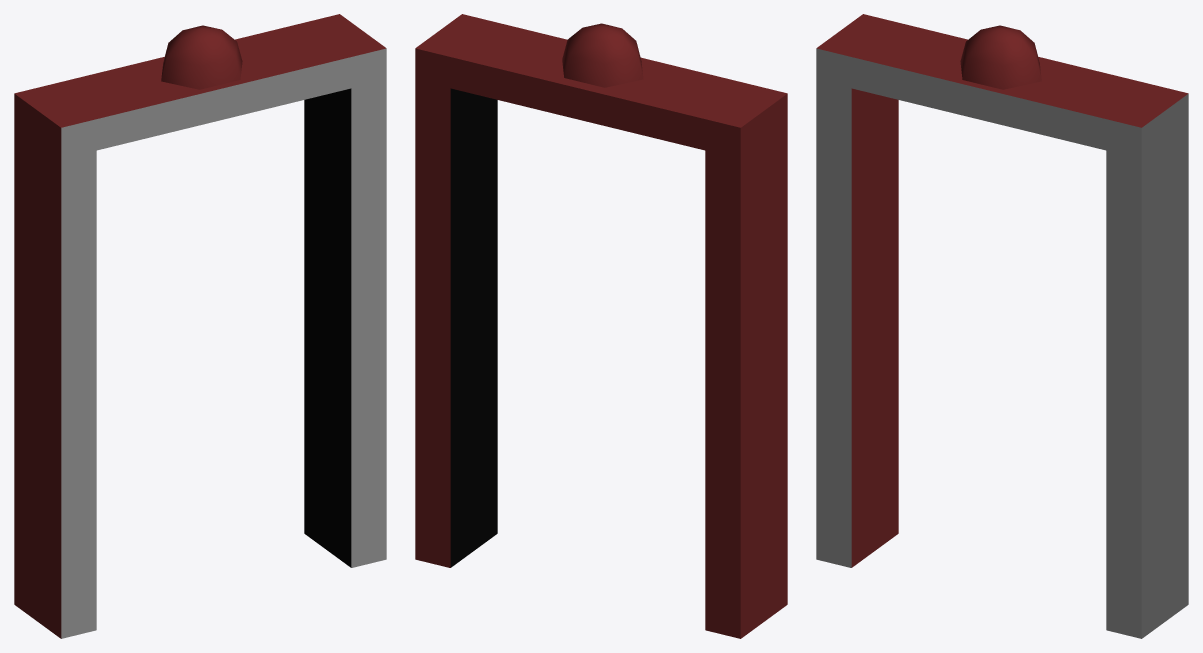
Rendered from SM_Hub_Doorway_01.fbx.
The picture shows the model from 3 angles, left to right: view 1: azimuth 30°, elevation 25°; view 2: azimuth 150°, elevation 25°; view 3: azimuth 330°, elevation 25°; orthographic projection.
Parts seen in each view (by area): view 1: SM_HubDoorway_01; view 2: SM_HubDoorway_01; view 3: SM_HubDoorway_01.
Part boxes in pixels (left/top/right/bottom): SM_HubDoorway_01: left=14, top=14, right=386, bottom=638; SM_HubDoorway_01: left=415, top=14, right=787, bottom=638; SM_HubDoorway_01: left=816, top=14, right=1188, bottom=638.
Bounding box in the file's own units: 2 × 3.25 × 0.5.
